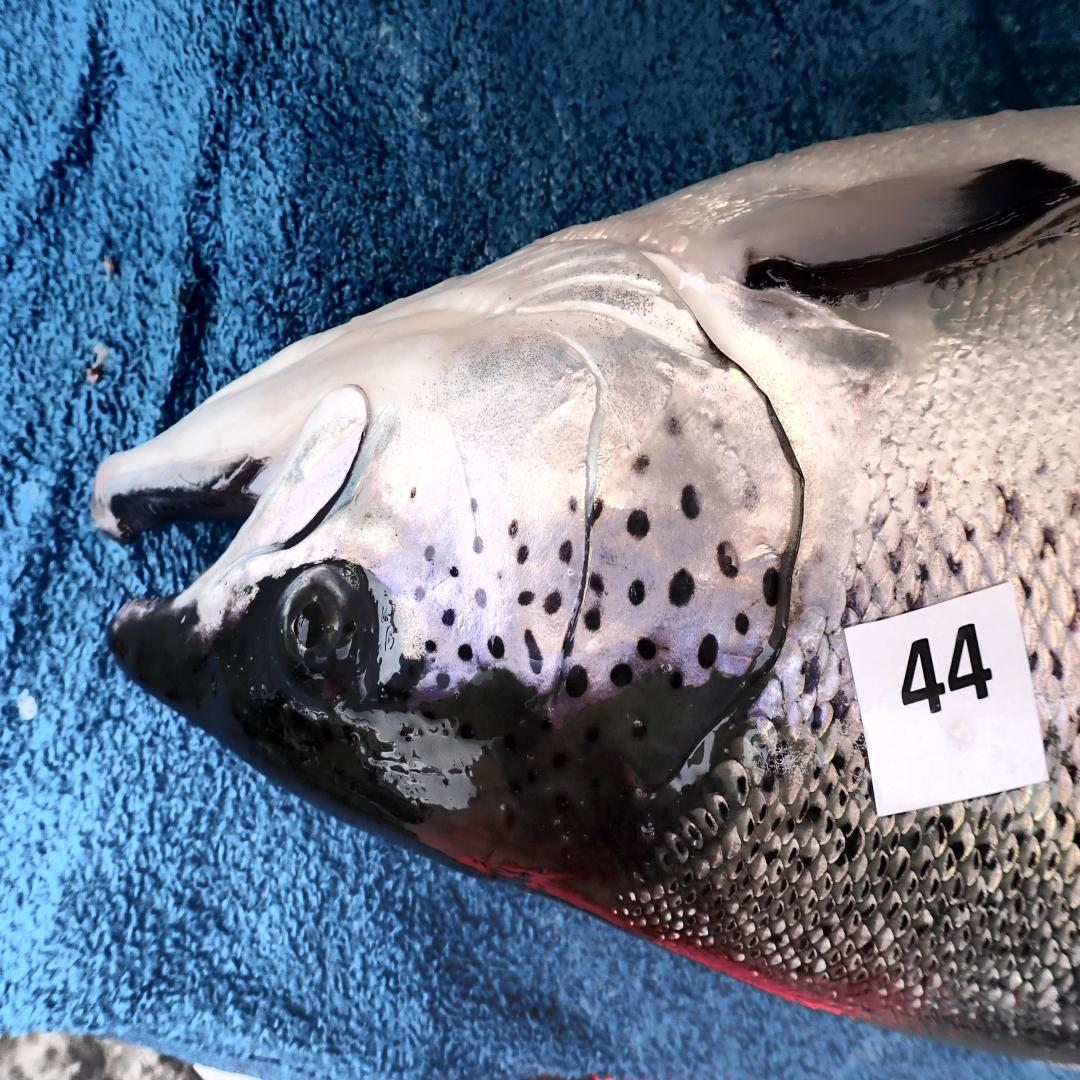spot: (669, 568, 694, 608), (561, 610, 578, 661), (717, 540, 738, 579), (565, 664, 589, 698), (525, 630, 542, 675), (761, 568, 780, 608), (698, 633, 719, 669), (626, 509, 650, 540), (681, 484, 700, 520), (610, 664, 633, 686), (637, 638, 656, 661), (743, 480, 759, 507), (629, 579, 645, 605), (544, 591, 561, 613), (584, 608, 601, 630), (487, 636, 504, 658), (667, 413, 683, 436), (734, 613, 749, 636), (591, 498, 603, 526), (559, 540, 572, 562), (441, 608, 456, 627), (669, 669, 683, 689), (633, 456, 650, 472), (589, 574, 603, 593), (475, 588, 487, 608), (458, 644, 472, 661), (413, 585, 426, 602), (424, 638, 437, 655), (472, 534, 483, 554), (519, 591, 534, 605), (437, 672, 449, 689), (517, 546, 529, 562), (508, 520, 519, 537), (424, 546, 435, 562), (470, 498, 479, 515), (570, 498, 578, 512), (409, 487, 418, 498), (450, 566, 458, 577), (497, 571, 502, 580)
